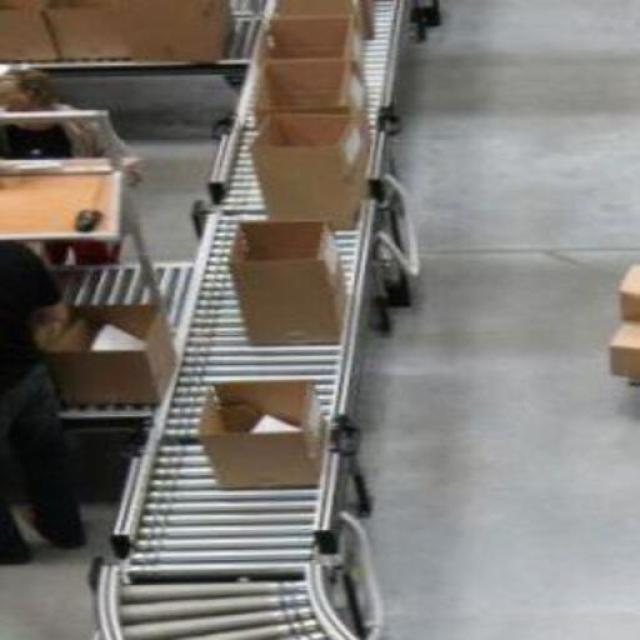conveyor: (106, 0, 399, 638)
